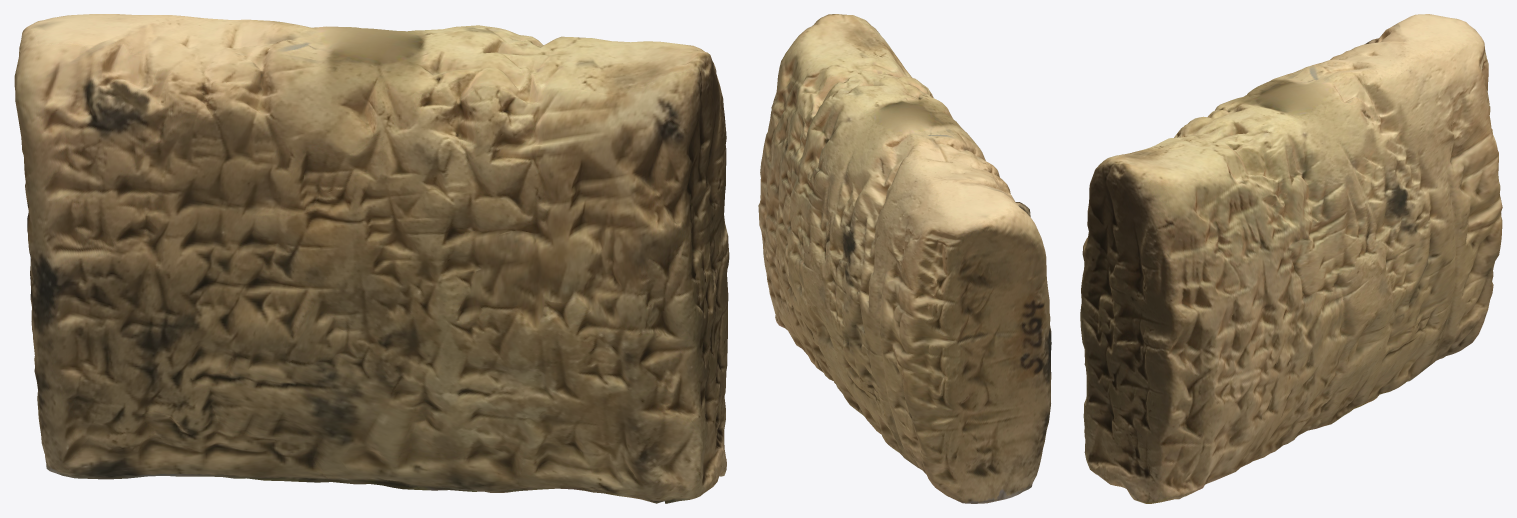
Rendered from cuneiform.glb.
3 views of the same model, side by side, from view 1: azimuth 30°, elevation 25°; view 2: azimuth 150°, elevation 25°; view 3: azimuth 270°, elevation 25° (orthographic). The views are drawn at different scales.
Visible parts, largest first — view 1: Object_2; view 2: Object_2; view 3: Object_2.
Boxes of the visible parts, x1,y1,x2,y2 form: Object_2: (14,14,729,503); Object_2: (758,14,1051,503); Object_2: (1080,14,1502,503).
Bounding box in the file's own units: 20.98 × 16.19 × 18.64.
Materials: 1 (1 with a texture image).
